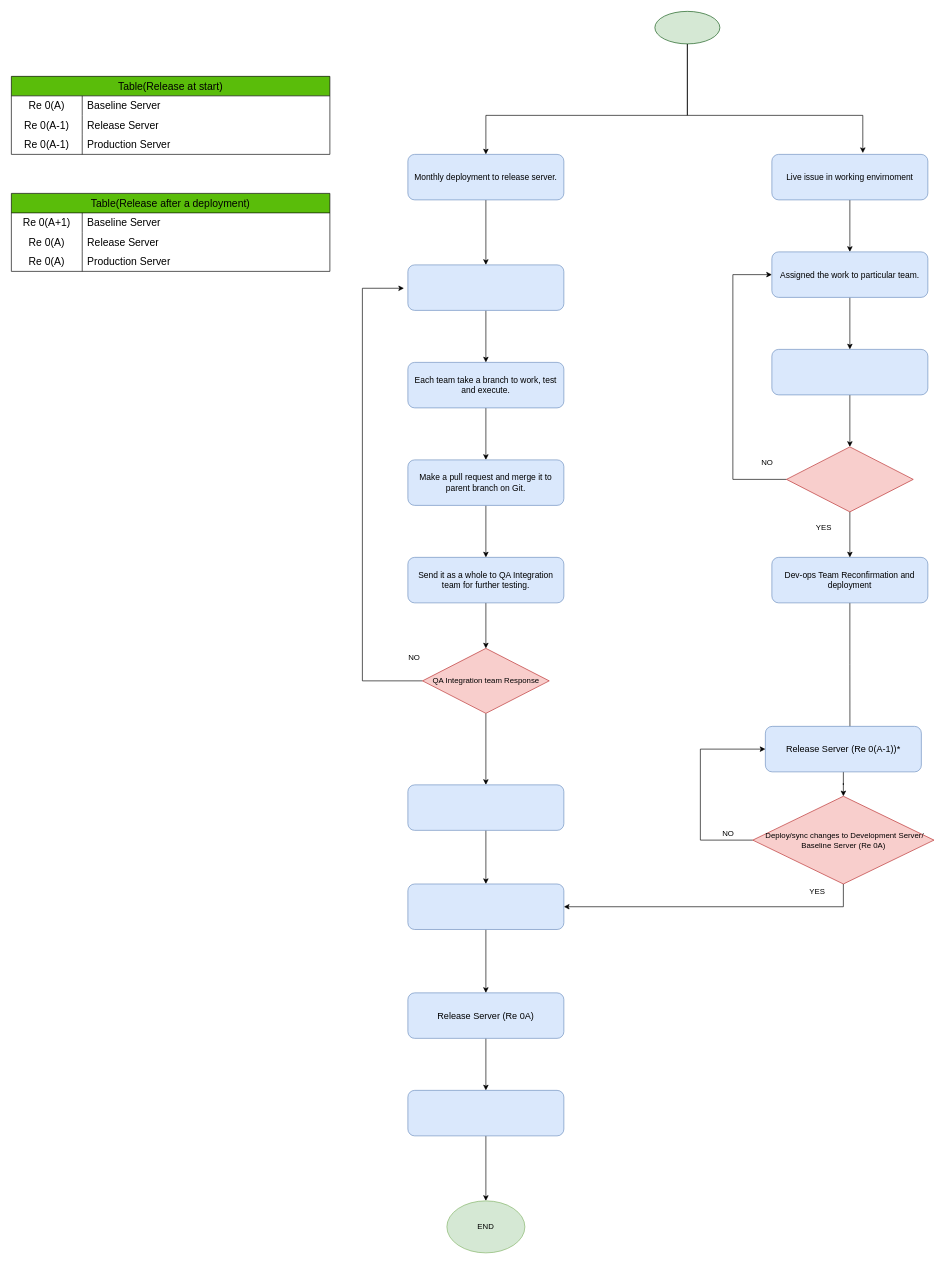
This 946x1264 diagram has some shape labels left out. The shapes that lost their labels are listed below. From the top down, each one's centre as x and y in pixels, then its label:
the point at 687,27: Start
the point at 485,287: Development Server/ Baseline Server (Re 0(A))
the point at 849,372: Tested by QA within the team.
the point at 849,479: QA Passed Work
the point at 485,807: Verified and Send it to Dev-ops for further regression testing
the point at 485,906: Check and Sync all the lags in DB before deploying.
the point at 485,1113: Production Server (Re 0A)
